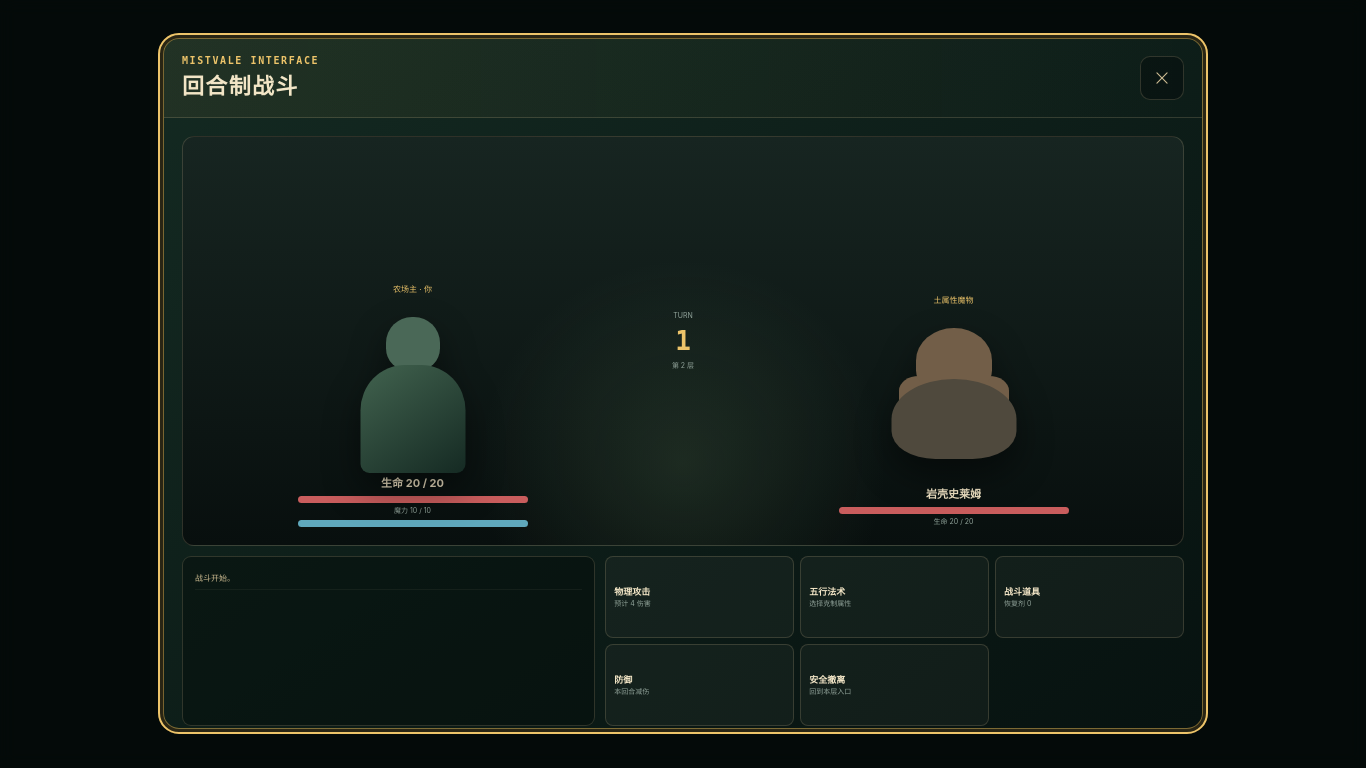
Scenario: 回合制五行战斗 › 物理攻击结算敌我伤害并写入战斗日志
Step 1. Click the button "物理攻击 预计 4 伤害" → (700, 597), box [605,556,794,638]
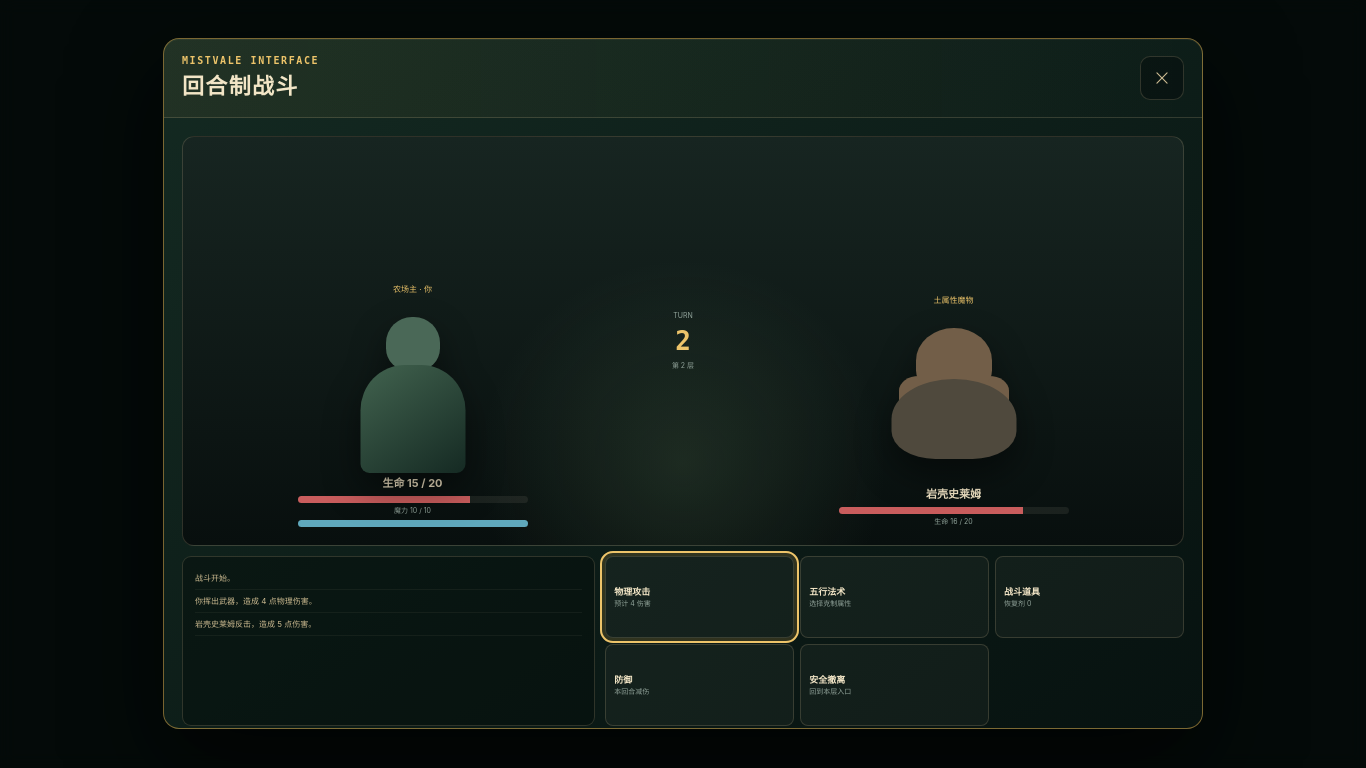
Expected: the text "生命 16 / 20" is shown, [934,517,973,527]
Expected: the text "你挥出武器，造成 4 点物理伤害。" is shown, [195,590,582,613]
